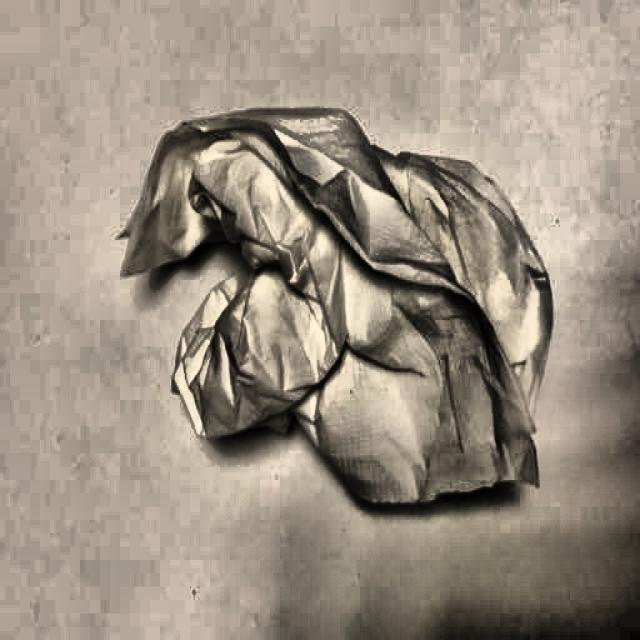paper: (118, 100, 554, 510)
